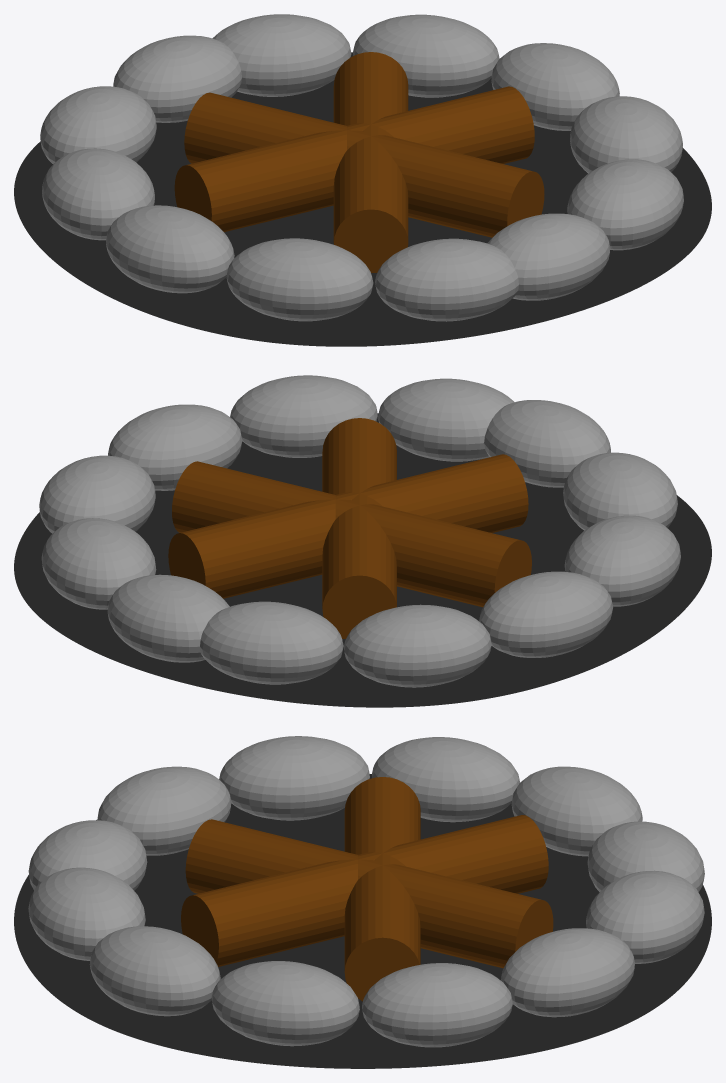
The model's file is CampfireEasy.fbx.
3 views of the same model, one above another, from view 1: azimuth 30°, elevation 25°; view 2: azimuth 150°, elevation 25°; view 3: azimuth 270°, elevation 25° (orthographic). The views are drawn at different scales.
Visible parts, largest first — view 1: Plane, Cylinder.003, Cylinder, Cylinder.002, Rock4.001, Rock4.002, Rock4, Rock4.005, Rock4.004, Rock2.001, Rock.001, Rock (+4 smaller); view 2: Plane, Cylinder.002, Cylinder.003, Cylinder, Rock2, Rock, Rock3, Rock2.001, Rock.001, Rock4.005, Rock4, Rock4.002 (+4 smaller); view 3: Plane, Cylinder, Cylinder.002, Cylinder.003, Rock4.003, Rock3.001, Rock4, Rock4.004, Rock2.001, Rock3, Rock4.001, Rock4.005 (+4 smaller).
Boxes of the visible parts, box(x1,y1,x2,y2) form: Plane: box(14, 52, 711, 346); Cylinder.003: box(174, 86, 534, 232); Cylinder: box(184, 92, 544, 237); Cylinder.002: box(333, 52, 408, 272); Rock4.001: box(226, 238, 373, 321); Rock4.002: box(375, 238, 518, 321); Rock4: box(106, 205, 234, 293); Rock4.005: box(212, 14, 351, 96); Rock4.004: box(353, 14, 499, 97); Rock2.001: box(567, 159, 683, 250); Rock.001: box(487, 213, 610, 300); Rock: box(113, 35, 241, 122); Plane: box(14, 413, 711, 707); Cylinder.002: box(168, 454, 528, 598); Cylinder.003: box(172, 461, 531, 607); Cylinder: box(322, 418, 396, 638); Rock2: box(344, 604, 491, 687); Rock: box(200, 601, 343, 684); Rock3: box(479, 571, 613, 657); Rock2.001: box(230, 375, 377, 457); Rock.001: box(378, 378, 514, 461); Rock4.005: box(107, 574, 229, 662); Rock4: box(564, 515, 680, 606); Rock4.002: box(484, 400, 610, 487); Plane: box(14, 774, 711, 1068); Cylinder: box(181, 815, 548, 966); Cylinder.002: box(185, 819, 553, 968); Cylinder.003: box(344, 777, 420, 1001); Rock4.003: box(362, 963, 512, 1047); Rock3.001: box(211, 961, 359, 1046); Rock4: box(219, 736, 369, 820); Rock4.004: box(501, 928, 634, 1017); Rock2.001: box(89, 926, 220, 1016); Rock3: box(372, 737, 519, 822); Rock4.001: box(97, 766, 231, 855); Rock4.005: box(586, 870, 704, 963).
Size of the model in its own units: 183 by 20 by 183.
